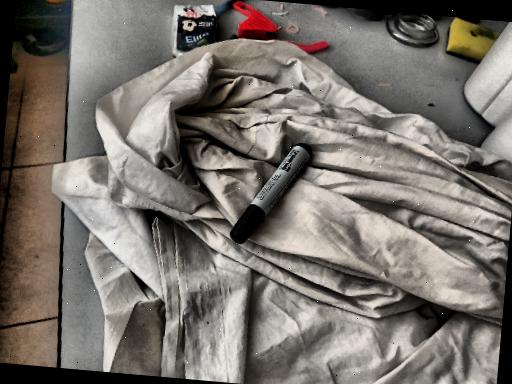marcador negro: (230, 143, 311, 243)
